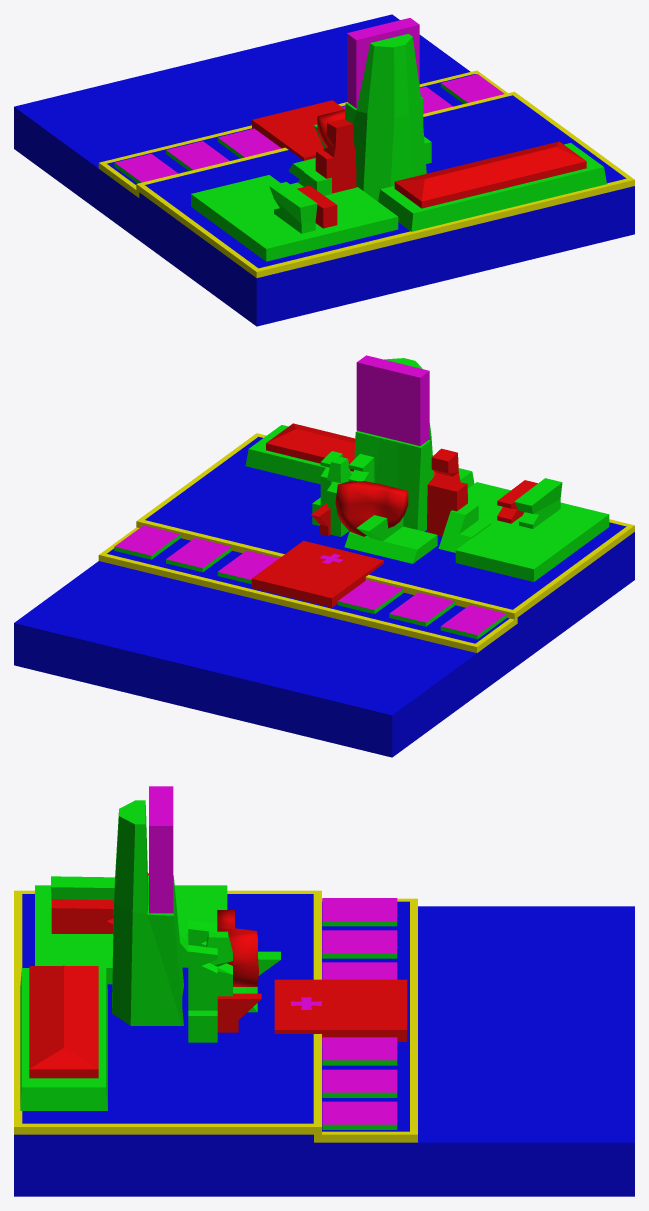
File: Auschwitz_Memorial.fbx
3 renders of one model, top to bottom at view 1: azimuth 30°, elevation 25°; view 2: azimuth 150°, elevation 25°; view 3: azimuth 270°, elevation 25°, orthographic. The views are drawn at different scales.
Parts seen in each view (by area): view 1: mesh_Memorial; view 2: mesh_Memorial; view 3: mesh_Memorial.
Boxes of the visible parts, x1,y1,x2,y2 form: mesh_Memorial: (14,14,634,326); mesh_Memorial: (14,355,634,757); mesh_Memorial: (14,786,634,1196).
Size of the model in its own units: 1074 by 571 by 1193.
